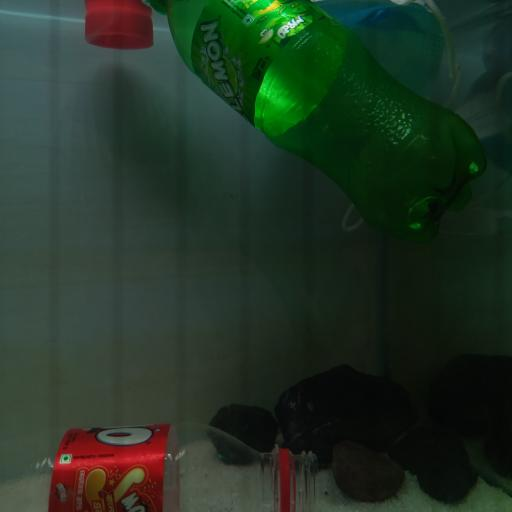bottle_cap: (87, 10, 156, 50)
mask: (314, 0, 512, 152)
plastic_bottle: (165, 0, 484, 238), (0, 421, 318, 512)
